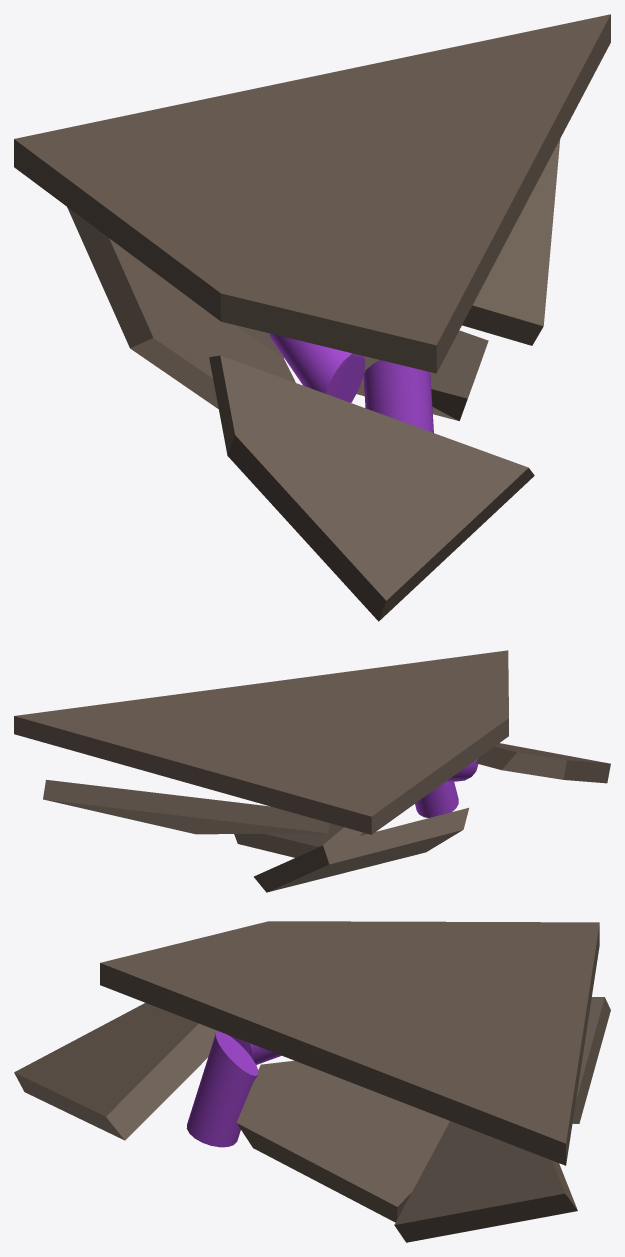
Rendered from BrokneFloor.fbx.
3 views of the same model, one above another, from view 1: azimuth 30°, elevation 25°; view 2: azimuth 150°, elevation 25°; view 3: azimuth 270°, elevation 25° (orthographic). The views are drawn at different scales.
Parts seen in each view (by area): view 1: Box222, Object023, Object025, Object024, Box223, Object026, Cylinder029; view 2: Box222, Object024, Object025, Object023, Box223, Object026; view 3: Box222, Box223, Object023, Object024, Object026, Object025, Cylinder029.
Part boxes in pixels (bbox=[...]): Box222: bbox=[14, 14, 610, 373]; Object023: bbox=[209, 355, 534, 621]; Object025: bbox=[67, 207, 295, 408]; Object024: bbox=[462, 139, 560, 345]; Box223: bbox=[234, 325, 488, 420]; Object026: bbox=[363, 360, 433, 432]; Cylinder029: bbox=[269, 333, 364, 402]; Box222: bbox=[14, 650, 508, 834]; Object024: bbox=[43, 779, 329, 834]; Object025: bbox=[254, 808, 468, 892]; Object023: bbox=[475, 743, 610, 783]; Box223: bbox=[234, 823, 367, 857]; Object026: bbox=[415, 781, 458, 817]; Box222: bbox=[100, 921, 599, 1165]; Box223: bbox=[236, 1060, 449, 1222]; Object023: bbox=[14, 1003, 218, 1140]; Object024: bbox=[394, 1121, 577, 1242]; Object026: bbox=[186, 1031, 258, 1147]; Object025: bbox=[572, 997, 610, 1123]; Cylinder029: bbox=[227, 1034, 281, 1064].
Bounding box in the file's own units: 10.66 × 3.6 × 11.32.
